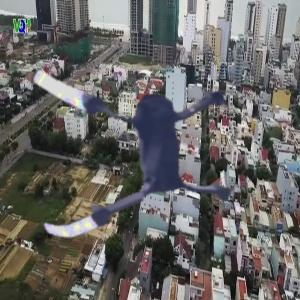drone: (5, 11, 266, 272)
